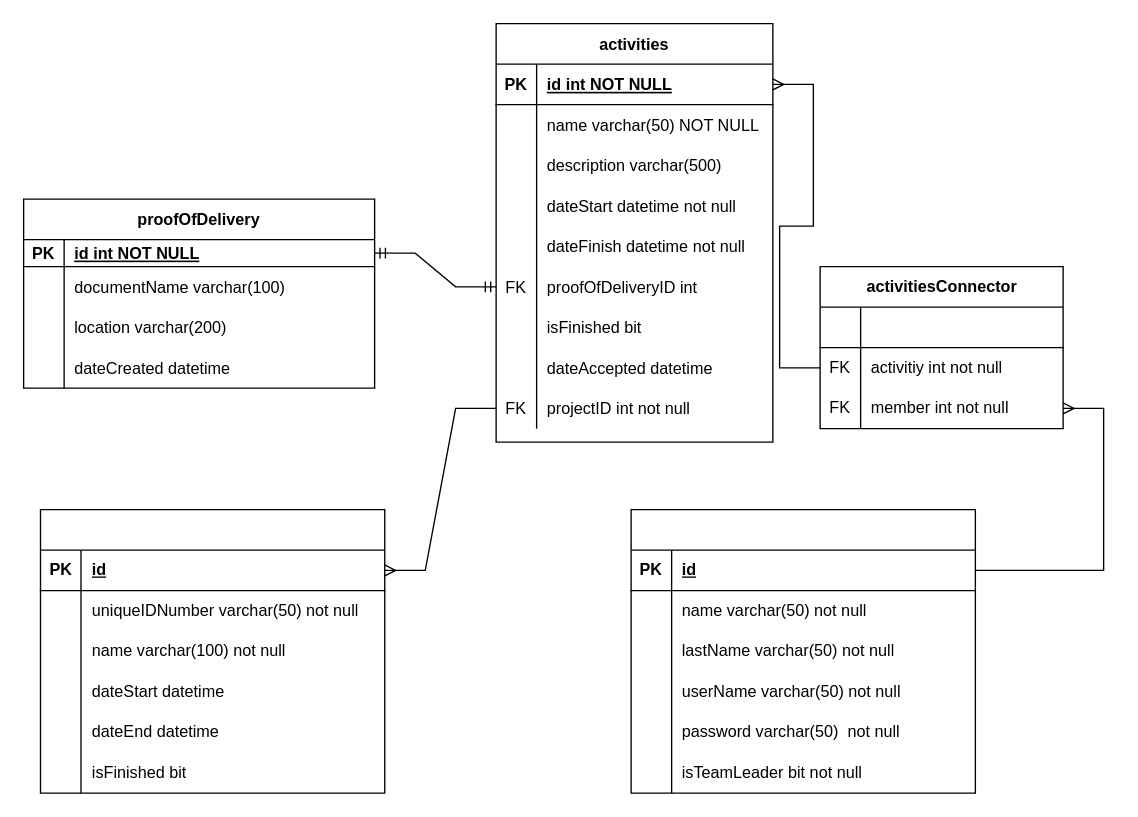
Some shapes in this 1138 by 817 pixel diagram are drawn without their labels. The box of each missing label's shape, as (x1, y1, x2, y2) in pixels:
members: (630, 508, 975, 793)
projects: (39, 508, 385, 793)
